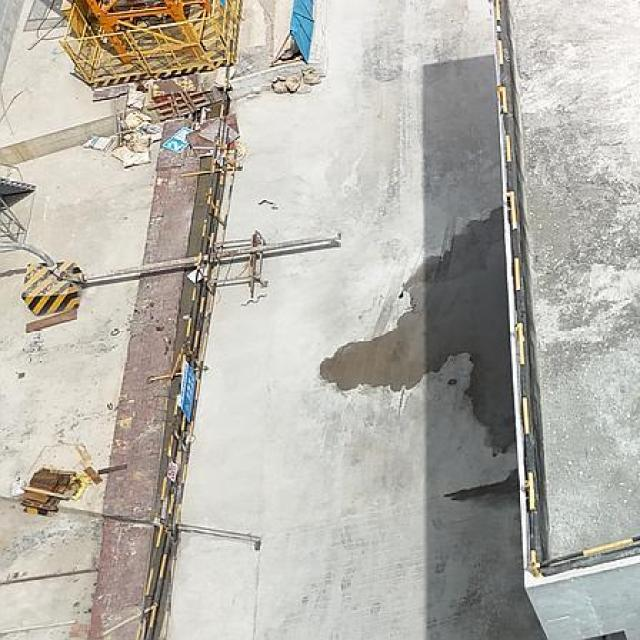Guardrail: (491, 0, 639, 581)
